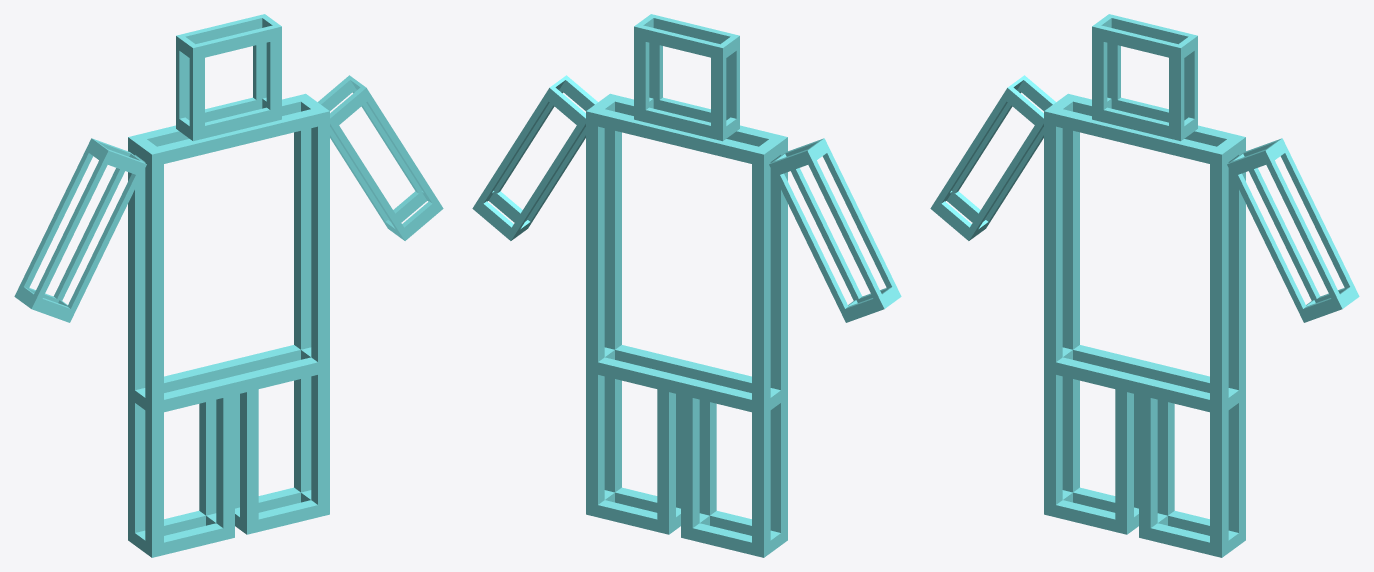
File: Invisible.fbx
3 views of the same model, side by side, from view 1: azimuth 30°, elevation 25°; view 2: azimuth 150°, elevation 25°; view 3: azimuth 330°, elevation 25° (orthographic).
Parts seen in each view (by area): view 1: Cube.026; view 2: Cube.026; view 3: Cube.026.
Part boxes in pixels (bbox=[...]): Cube.026: bbox=[14, 14, 443, 557]; Cube.026: bbox=[472, 14, 901, 557]; Cube.026: bbox=[930, 14, 1359, 557].
Bounding box in the file's own units: 167 × 192 × 16.8.
